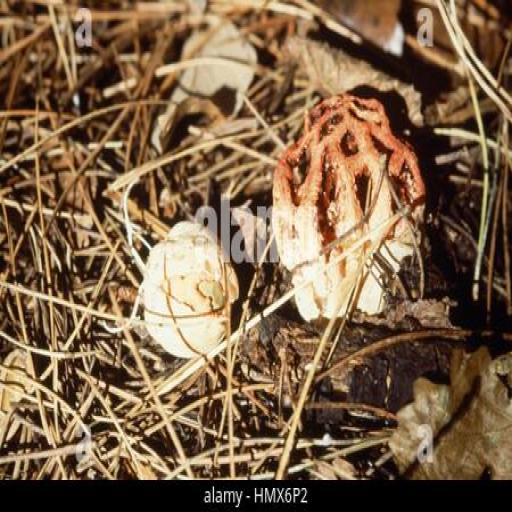mushroom: (277, 94, 421, 323)
